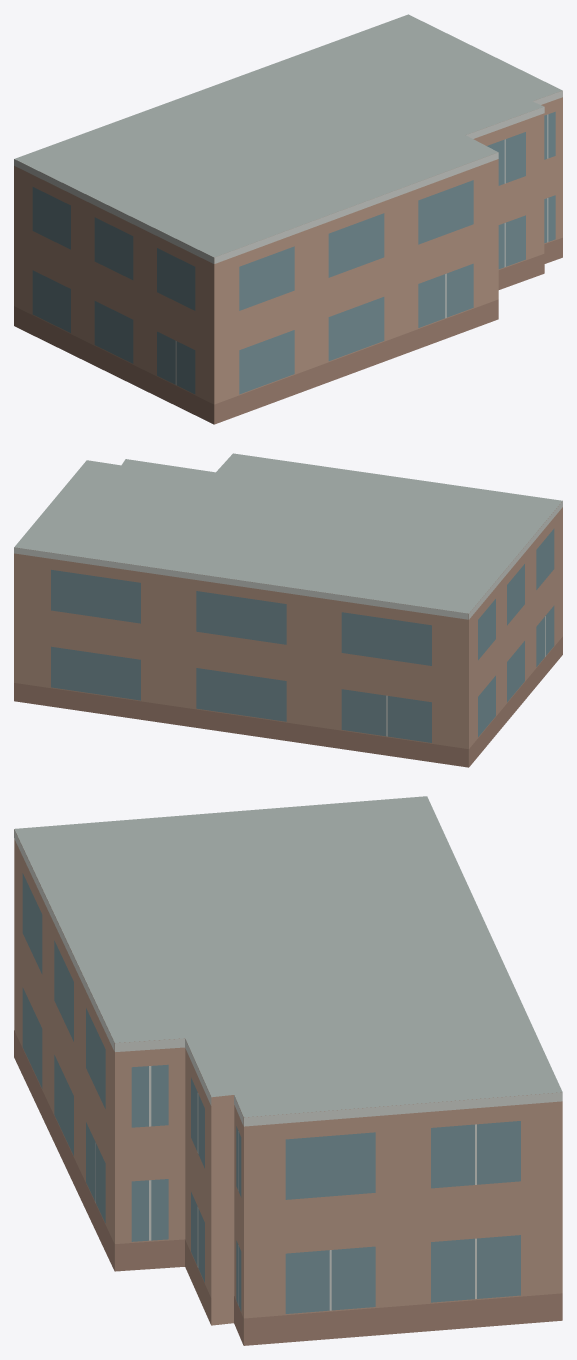
File: survey-upis-32674235.glb
3 views of the same model, one above another, from view 1: azimuth 30°, elevation 25°; view 2: azimuth 150°, elevation 25°; view 3: azimuth 270°, elevation 25° (orthographic). The views are drawn at different scales.
Parts seen in each view (by area): view 1: survey-upis-32674235.tmp; view 2: survey-upis-32674235.tmp; view 3: survey-upis-32674235.tmp.
Part boxes in pixels (x1=…): survey-upis-32674235.tmp: x1=14, y1=14, x2=562, y2=424; survey-upis-32674235.tmp: x1=14, y1=453, x2=562, y2=767; survey-upis-32674235.tmp: x1=14, y1=796, x2=562, y2=1345.
Size of the model in its own units: 18.42 by 6.1 by 13.29.
